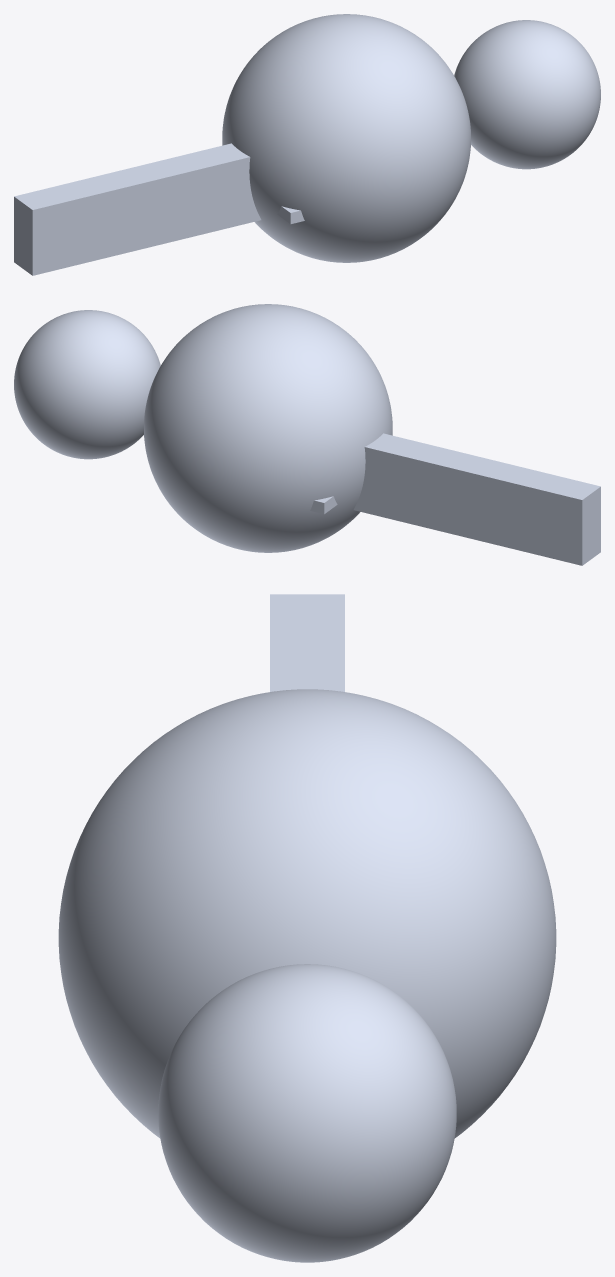
Rendered from whale.glb.
The picture shows the model from 3 angles, top to bottom: view 1: azimuth 30°, elevation 25°; view 2: azimuth 150°, elevation 25°; view 3: azimuth 270°, elevation 25°; orthographic projection. The views are drawn at different scales.
Size of the model in its own units: 0.158 by 0.06 by 0.06.
